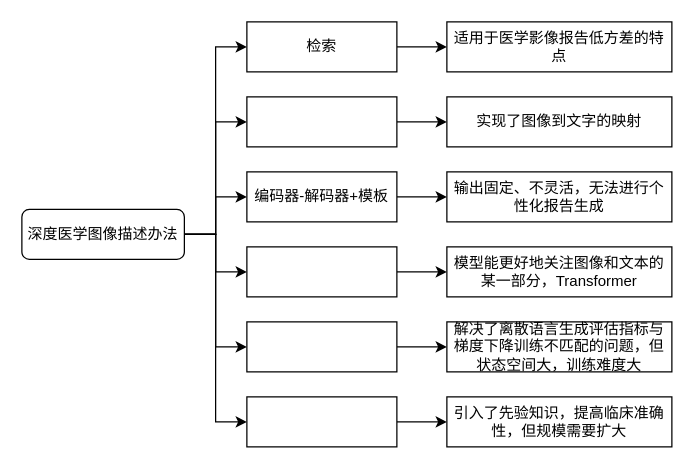
Some shapes in this 694 by 469 pixel diagram are drawn without their labels. Each missing label, with the centre of its shape:
"编码器-解码器" belongs at point (321, 121).
"编码器-解码器+强化学习" belongs at point (321, 346).
"编码器-解码器+注意力" belongs at point (321, 271).
"编码器-解码器+知识图谱" belongs at point (321, 421).
